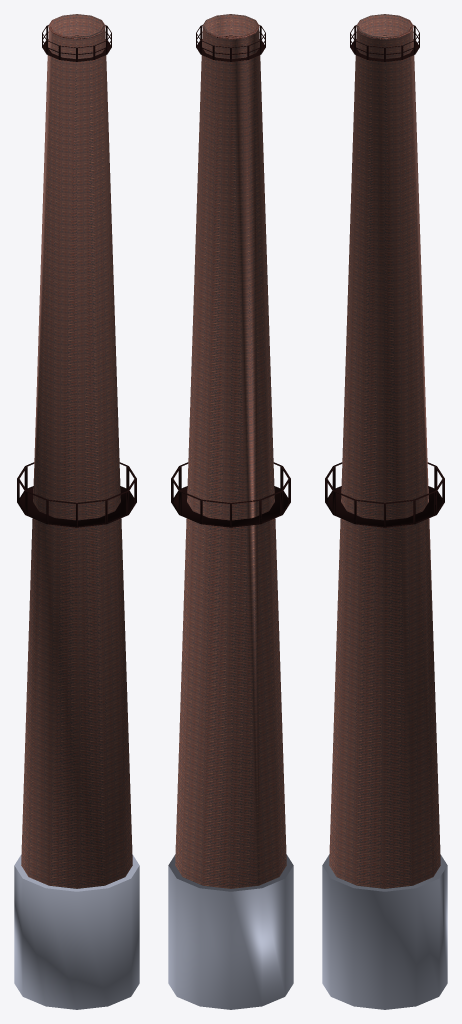
Rendered from trikoo.obj.
The picture shows the model from 3 angles, left to right: view 1: azimuth 90°, elevation 25°; view 2: azimuth 210°, elevation 25°; view 3: azimuth 270°, elevation 25°; orthographic projection.
Parts seen in each view (by area): view 1: Cylinder.002_Cylinder.009; view 2: Cylinder.002_Cylinder.009; view 3: Cylinder.002_Cylinder.009.
Part boxes in pixels (x1,y1,x2,y2): Cylinder.002_Cylinder.009: (14, 14, 139, 1009); Cylinder.002_Cylinder.009: (168, 14, 293, 1009); Cylinder.002_Cylinder.009: (322, 14, 447, 1009).
Bounding box in the file's own units: 9.58 × 80.8 × 9.58.
Materials: 3 (1 with a texture image).
